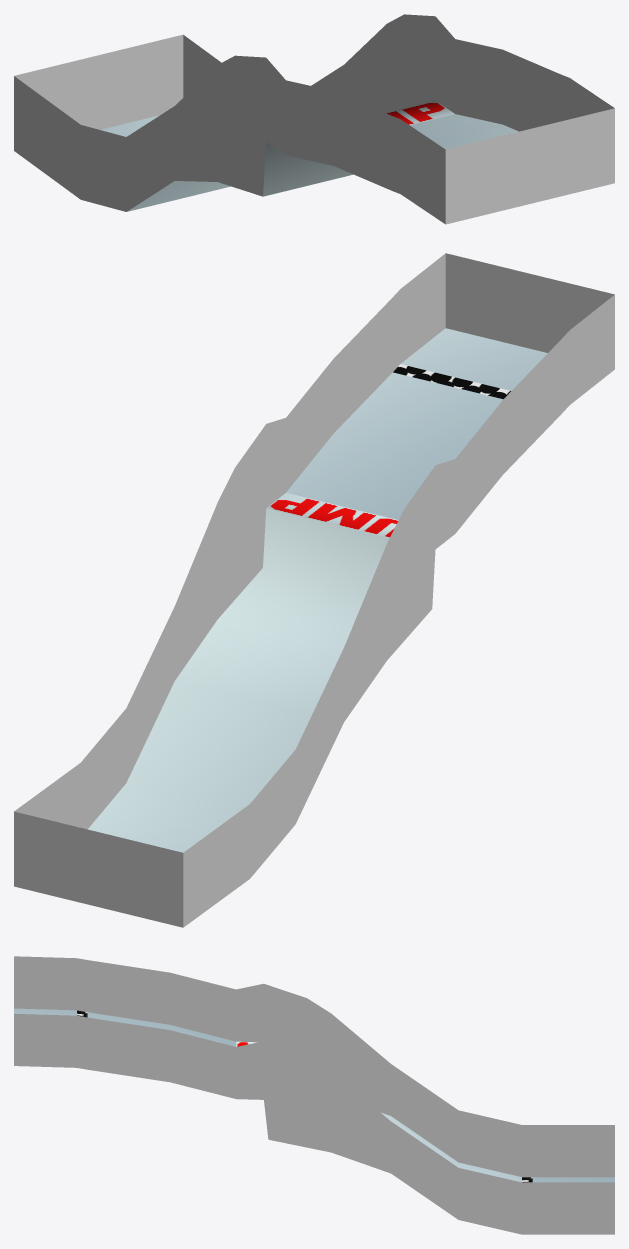
Rendered from testtrackmodel.fbx.
3 views of the same model, one above another, from view 1: azimuth 30°, elevation 25°; view 2: azimuth 150°, elevation 25°; view 3: azimuth 270°, elevation 25° (orthographic). The views are drawn at different scales.
Visible parts, largest first — view 1: pPlane1; view 2: pPlane1; view 3: pPlane1.
Boxes of the visible parts, box(x1,y1,x2,y2) form: pPlane1: box(14, 14, 614, 224); pPlane1: box(14, 253, 614, 927); pPlane1: box(14, 956, 614, 1234).
Size of the model in its own units: 1.42 by 2.55 by 6.28.
